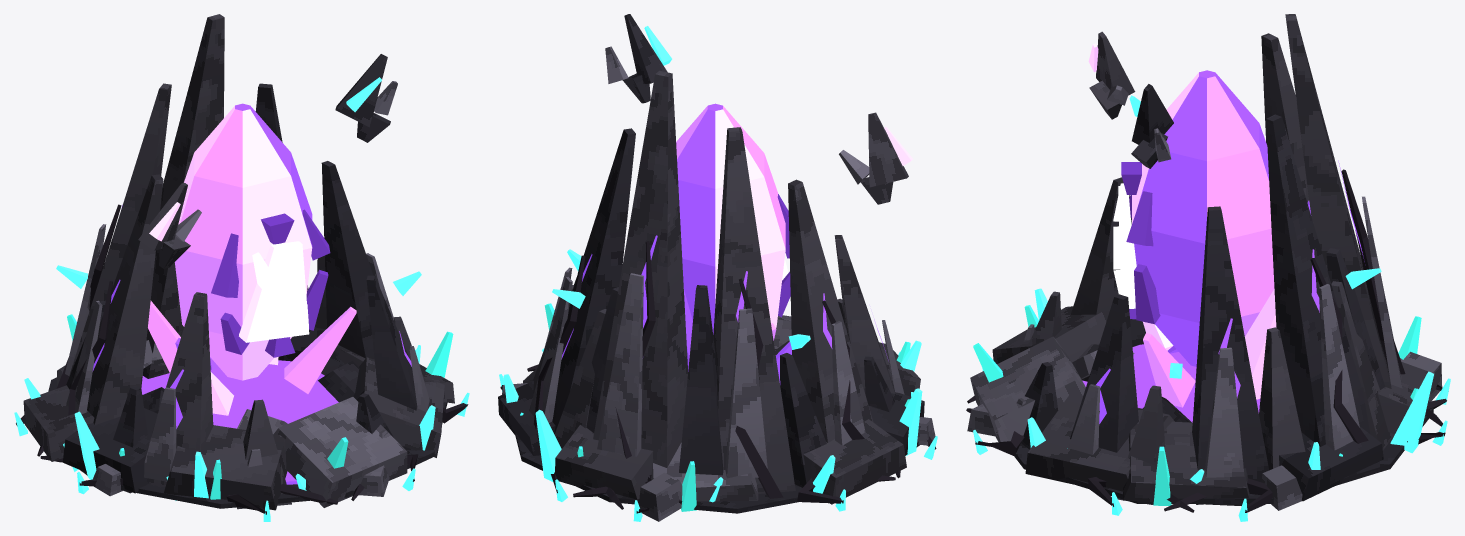
The model's file is fp_nest.glb.
3 views of the same model, side by side, from view 1: azimuth 30°, elevation 25°; view 2: azimuth 150°, elevation 25°; view 3: azimuth 270°, elevation 25° (orthographic). The views are drawn at different scales.
Visible parts, largest first — view 1: fp_nest, glow_core, weak_core, glow_rim, deco_veins, bob_chip_b, bob_chip_a; view 2: fp_nest, glow_core, glow_rim, deco_veins, bob_chip_a, bob_chip_b, weak_core; view 3: fp_nest, glow_core, glow_rim, deco_veins, weak_core, bob_chip_b, bob_chip_a.
Part boxes in pixels (box(x1,y1,x2,y2)): fp_nest: box(23, 14, 454, 510); glow_core: box(92, 103, 411, 484); weak_core: box(211, 209, 330, 357); glow_rim: box(14, 265, 469, 521); deco_veins: box(16, 204, 468, 514); bob_chip_b: box(335, 54, 397, 142); bob_chip_a: box(138, 183, 201, 268); fp_nest: box(498, 70, 935, 521); glow_core: box(561, 103, 888, 384); glow_rim: box(499, 249, 937, 521); deco_veins: box(500, 241, 936, 513); bob_chip_a: box(839, 112, 913, 204); bob_chip_b: box(605, 14, 671, 103); weak_core: box(777, 194, 790, 317); fp_nest: box(967, 14, 1442, 510); glow_core: box(1082, 70, 1364, 423); glow_rim: box(973, 268, 1450, 521); deco_veins: box(966, 169, 1446, 512); weak_core: box(1113, 162, 1160, 324); bob_chip_b: box(1129, 84, 1173, 168); bob_chip_a: box(1088, 31, 1135, 119).
Size of the model in its own units: 2.57 by 2.4 by 2.57.
13 materials, 3 textured.
